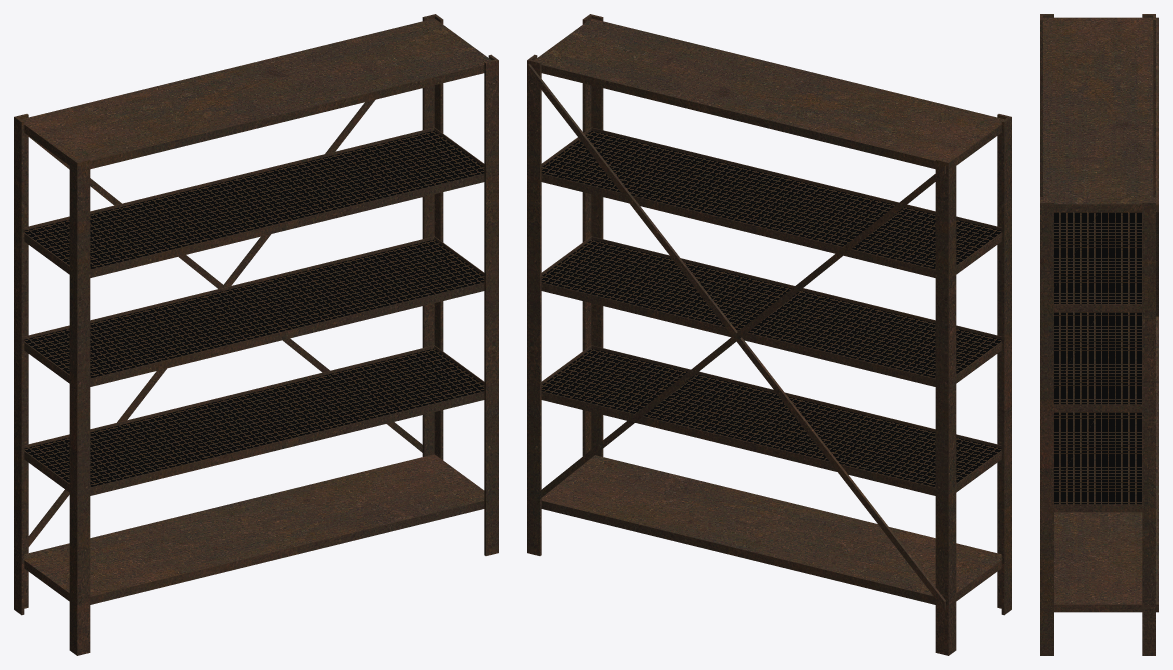
The model's file is shelf_mx_4.glb.
3 views of the same model, side by side, from view 1: azimuth 30°, elevation 25°; view 2: azimuth 150°, elevation 25°; view 3: azimuth 270°, elevation 25° (orthographic). The views are drawn at different scales.
Visible parts, largest first — view 1: shelf_mx_4; view 2: shelf_mx_4; view 3: shelf_mx_4.
Boxes of the visible parts, left/top/right/bottom form: shelf_mx_4: left=14, top=14, right=498, bottom=655; shelf_mx_4: left=527, top=14, right=1011, bottom=655; shelf_mx_4: left=1040, top=14, right=1158, bottom=655.
Bounding box in the file's own units: 1.62 × 1.81 × 0.43.
Materials: 2 (2 with a texture image).
